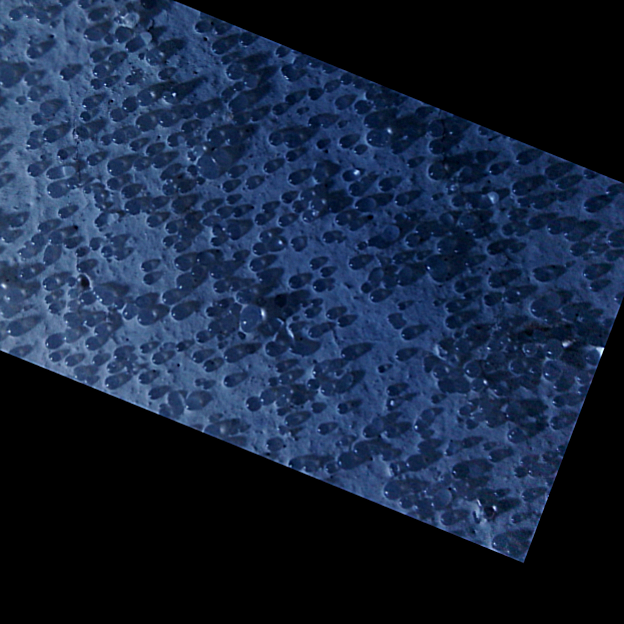GrassBeadSeg: (55, 0, 461, 478), (19, 13, 401, 499), (6, 9, 485, 388), (40, 65, 497, 427), (0, 68, 452, 393), (89, 51, 459, 448), (90, 178, 534, 502), (54, 156, 597, 409), (35, 225, 532, 501), (79, 98, 561, 381), (27, 139, 424, 475), (0, 104, 537, 348), (28, 113, 461, 414), (117, 87, 471, 449), (192, 104, 525, 479), (39, 276, 506, 539), (27, 235, 530, 466), (159, 212, 520, 523), (12, 64, 322, 414), (201, 168, 556, 473), (90, 188, 489, 450), (74, 261, 454, 526), (214, 224, 613, 476), (61, 237, 467, 479), (145, 52, 468, 354), (246, 73, 518, 415), (28, 266, 412, 508), (137, 159, 529, 396), (102, 65, 622, 243), (187, 187, 467, 492), (134, 148, 561, 347), (89, 134, 549, 318), (0, 39, 363, 269), (83, 154, 376, 438), (14, 116, 404, 329), (36, 40, 284, 373), (223, 223, 566, 455), (104, 178, 525, 367), (0, 100, 322, 340), (204, 223, 512, 473), (78, 183, 438, 384), (65, 107, 428, 306), (61, 313, 531, 465), (222, 131, 538, 357), (118, 184, 481, 373), (159, 163, 445, 397), (24, 163, 363, 358), (39, 129, 386, 315), (57, 69, 418, 247), (120, 124, 415, 340), (258, 203, 599, 386), (187, 132, 617, 277), (332, 97, 559, 365), (0, 181, 363, 342), (143, 52, 473, 229), (60, 288, 391, 462), (236, 222, 452, 485), (129, 70, 296, 403), (71, 235, 470, 373), (111, 148, 364, 361), (0, 243, 503, 343), (24, 47, 185, 352), (64, 176, 290, 386), (204, 93, 403, 328), (112, 257, 600, 350), (201, 178, 392, 412), (135, 196, 543, 303), (80, 56, 240, 327), (65, 72, 246, 298), (236, 34, 397, 288), (42, 109, 209, 350), (197, 201, 509, 324), (210, 280, 430, 453), (215, 298, 517, 422), (313, 144, 424, 470), (335, 140, 443, 470), (192, 176, 473, 300), (296, 214, 474, 405), (192, 267, 546, 363), (134, 91, 321, 269), (62, 329, 479, 408), (85, 103, 407, 205), (148, 194, 331, 365), (332, 136, 425, 472), (241, 217, 623, 298), (54, 148, 207, 344), (4, 321, 400, 396), (334, 293, 561, 423), (143, 129, 444, 227), (91, 191, 291, 338), (25, 89, 245, 218), (89, 81, 301, 212), (0, 31, 134, 236), (412, 224, 623, 352), (61, 68, 443, 138), (43, 2, 170, 205), (66, 299, 301, 405), (173, 179, 301, 373), (339, 266, 597, 361), (296, 190, 426, 377), (0, 205, 211, 319), (148, 114, 409, 205), (123, 219, 412, 301), (132, 115, 371, 212), (196, 250, 300, 471), (34, 80, 235, 191), (221, 245, 407, 362), (39, 233, 418, 290), (172, 274, 385, 373), (451, 173, 576, 341), (209, 41, 327, 218), (146, 67, 293, 209), (393, 194, 553, 323), (421, 359, 552, 510), (254, 270, 408, 398), (43, 135, 266, 223), (15, 266, 159, 401), (248, 199, 598, 254), (381, 361, 526, 491), (227, 245, 475, 319), (185, 150, 352, 259), (388, 194, 469, 417), (494, 184, 616, 332), (71, 279, 238, 382), (447, 126, 593, 237), (327, 273, 441, 404), (215, 293, 311, 443), (505, 267, 584, 444), (82, 99, 135, 352), (111, 0, 154, 308), (138, 344, 285, 431), (150, 353, 484, 391), (109, 231, 271, 309), (173, 167, 251, 325), (314, 361, 481, 434), (158, 290, 257, 411), (116, 8, 238, 103), (93, 183, 188, 302), (14, 0, 118, 104), (353, 84, 482, 166), (45, 231, 118, 374), (39, 128, 274, 172), (286, 289, 518, 333), (514, 152, 562, 359), (250, 258, 319, 390), (8, 209, 108, 299), (403, 125, 525, 195), (102, 74, 200, 159), (425, 196, 531, 274), (276, 214, 382, 290), (209, 224, 405, 265), (468, 151, 565, 233), (194, 122, 246, 264), (225, 252, 404, 290), (72, 125, 364, 148), (245, 258, 550, 280), (483, 292, 507, 550), (168, 274, 302, 320), (202, 157, 224, 433), (484, 337, 586, 396), (0, 221, 74, 302), (290, 199, 383, 263), (79, 111, 163, 180), (49, 306, 130, 376), (274, 48, 343, 127), (203, 167, 239, 314), (182, 397, 470, 415), (351, 315, 460, 361), (203, 129, 300, 179), (24, 0, 129, 46), (0, 151, 26, 327), (154, 75, 245, 125), (401, 211, 474, 272), (433, 239, 504, 301), (158, 183, 184, 350), (544, 314, 605, 382), (207, 236, 238, 362), (202, 300, 407, 318), (134, 349, 235, 385), (41, 255, 73, 365), (4, 326, 321, 337), (485, 419, 561, 463), (81, 175, 174, 210), (383, 404, 448, 452), (82, 185, 122, 262), (246, 64, 296, 119), (513, 228, 585, 266), (281, 416, 498, 428), (218, 82, 299, 111), (168, 157, 209, 213), (277, 278, 333, 318), (114, 128, 193, 156), (410, 453, 449, 506), (82, 26, 118, 82), (557, 292, 620, 321), (477, 380, 566, 400), (121, 308, 147, 376), (75, 256, 190, 271), (308, 173, 353, 211), (264, 391, 293, 448), (413, 492, 472, 514), (20, 75, 101, 89), (413, 414, 478, 431), (322, 64, 361, 84), (345, 183, 372, 206), (107, 107, 123, 141), (192, 265, 223, 278), (384, 313, 402, 325)
